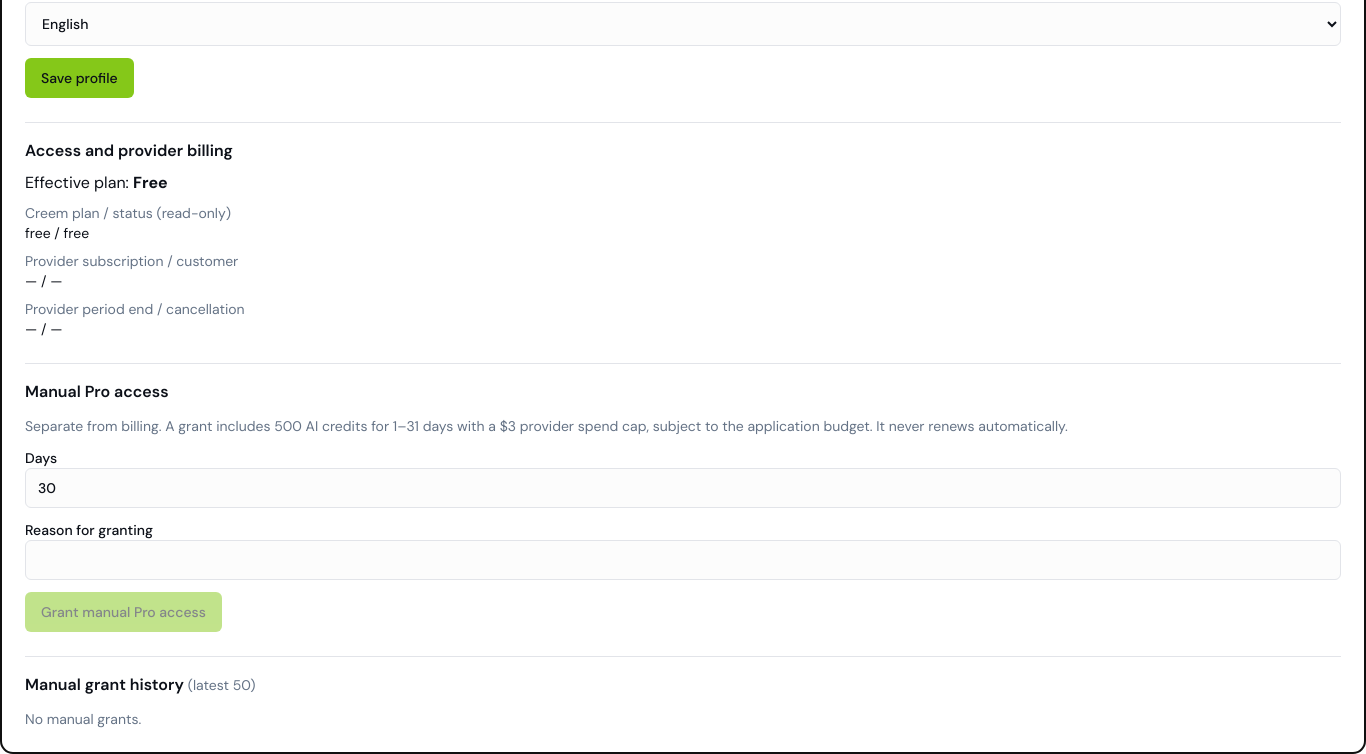
Scenario: Admin user edits and manual allowance › preserves the conflicting draft until an explicit access refresh succeeds
(page scrolled)
Type "Support trial" into the field labelled "Reason for granting" at (683, 560), box 25,540 -> 1341,580
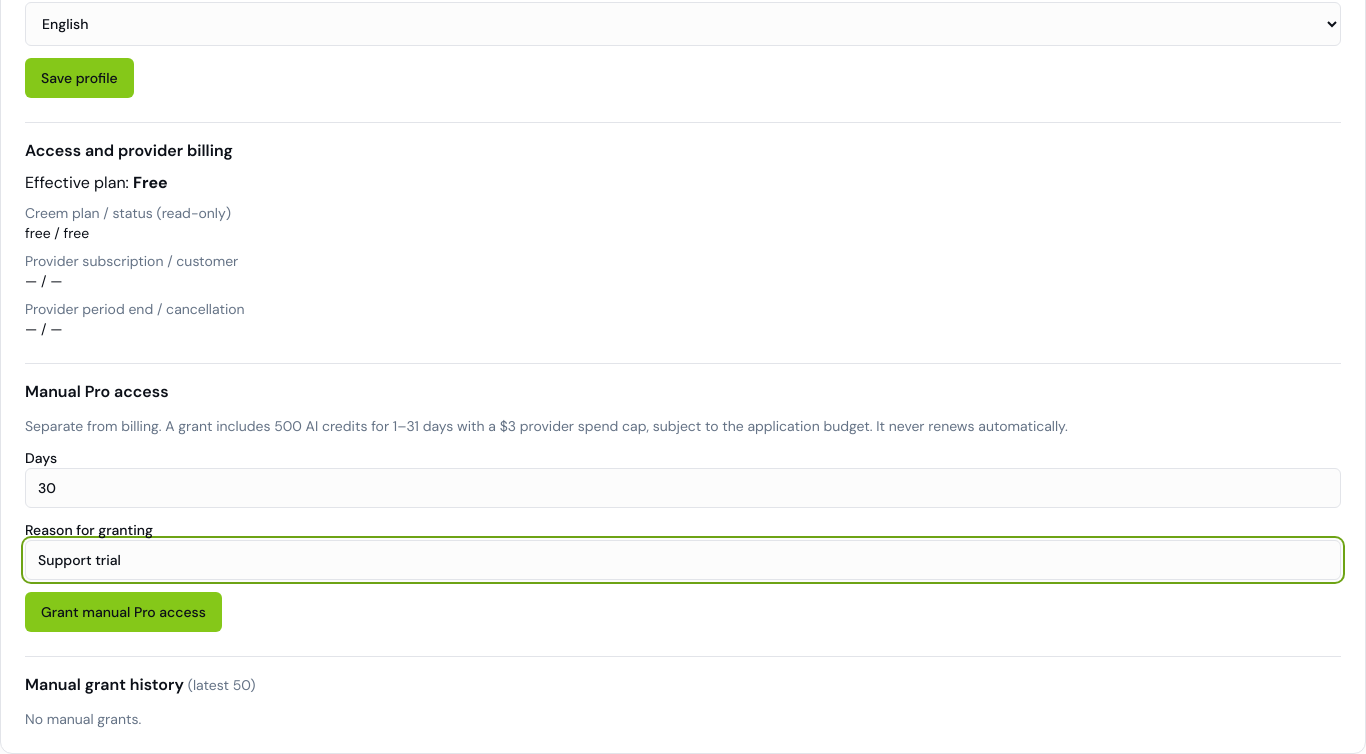
Click the button "Grant manual Pro access" at (123, 612), box 25,592 -> 222,632
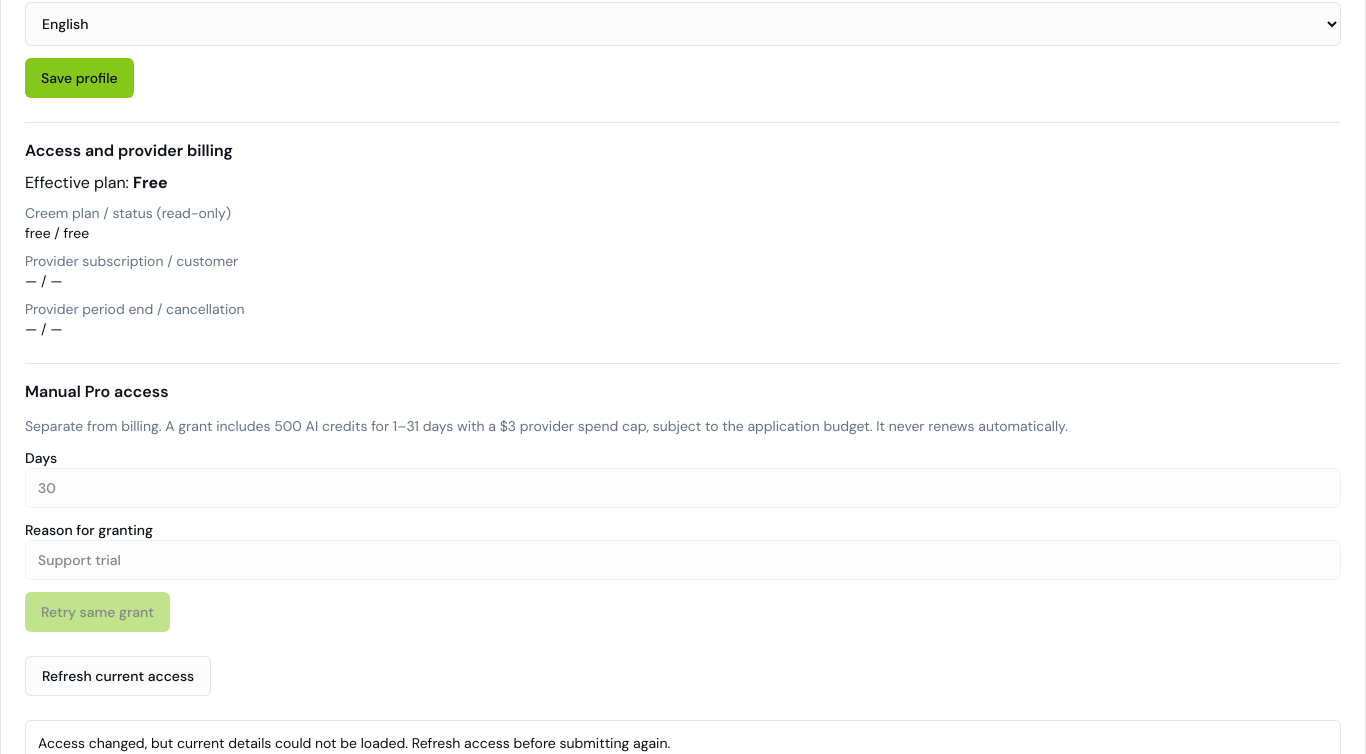
Result: the message shows "current details could not be loaded" at 38,734 -> 670,752
Result: the field labelled "Reason for granting" is disabled at 25,540 -> 1341,580
Result: the button "Retry same grant" is disabled at 25,592 -> 170,632
Click the button "Refresh current access" at (118, 676), box 25,656 -> 211,696
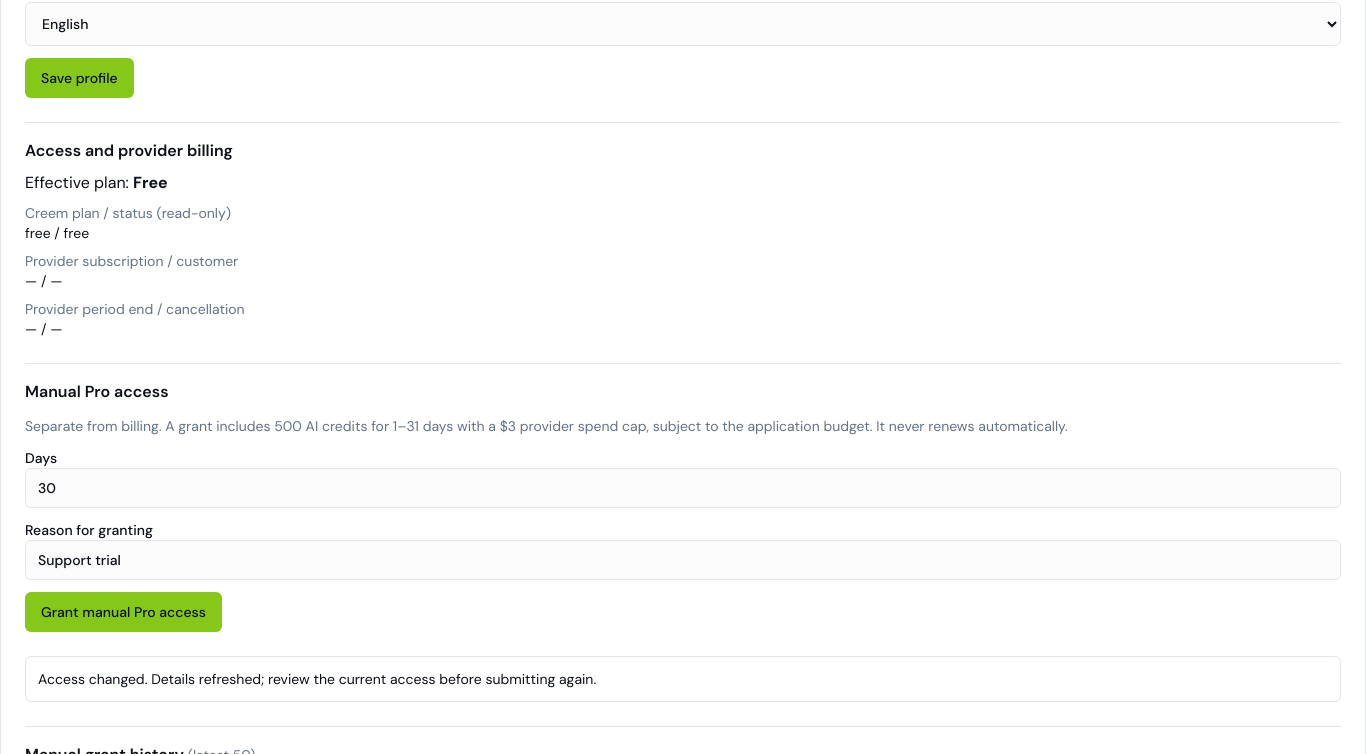
Result: the field labelled "Reason for granting" is enabled at 25,540 -> 1341,580
Result: the button "Grant manual Pro access" is enabled at 25,592 -> 222,632
